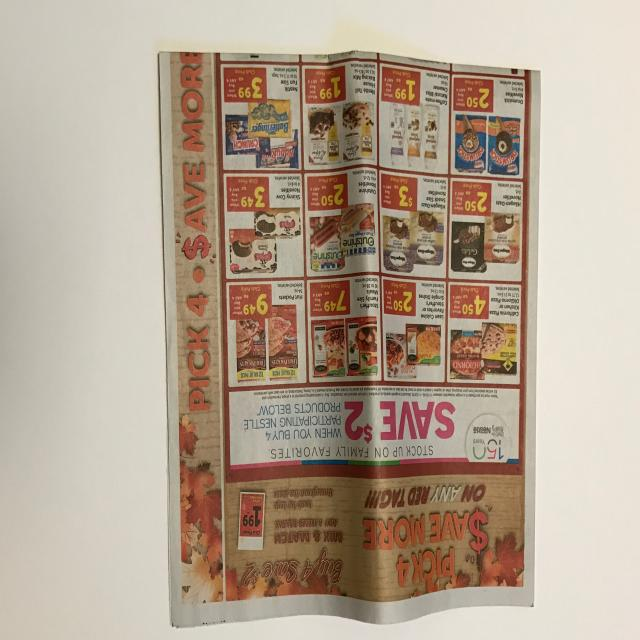Paper: (150, 39, 544, 628)
